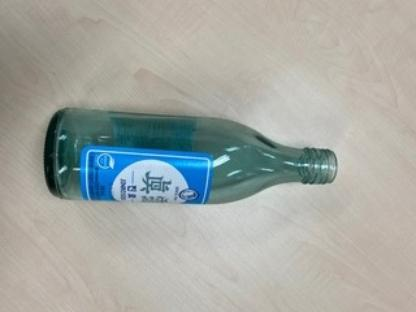Glass Bottle: (43, 106, 337, 206)
